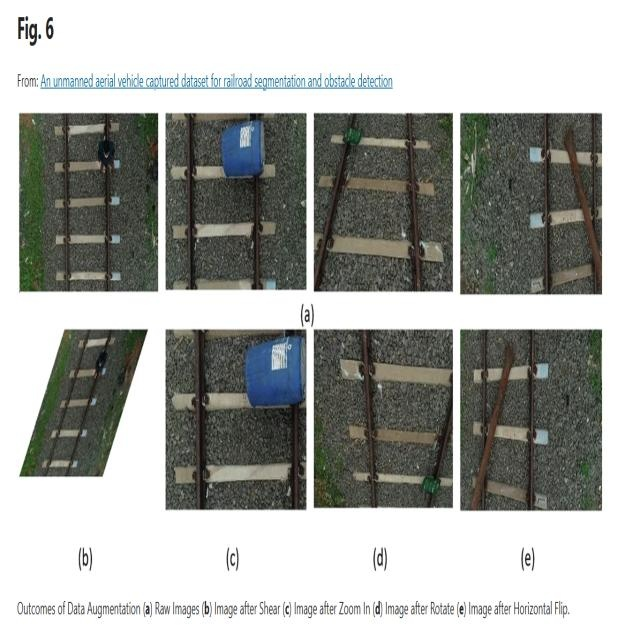obstacle: (550, 138, 610, 288), (460, 345, 522, 476), (242, 329, 308, 407), (219, 112, 274, 183), (90, 121, 138, 181), (86, 341, 117, 384)
